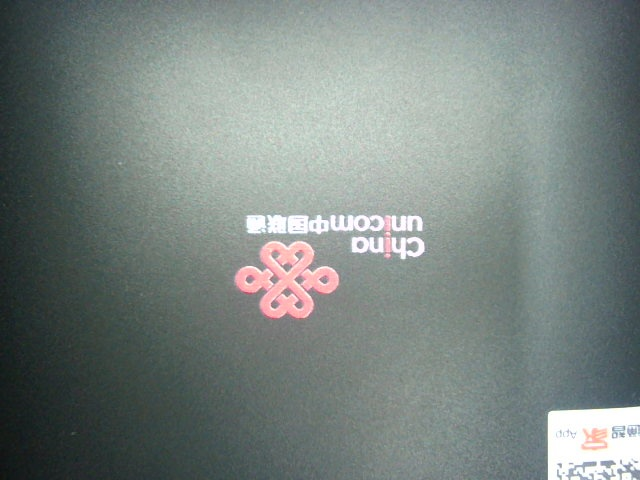AC_ChinaUnicom: (223, 208, 431, 321)
